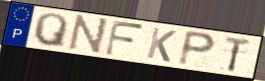F: (103, 19, 146, 58)
K: (144, 26, 178, 64)
N: (65, 14, 111, 57)
P: (176, 29, 219, 68)
Q: (32, 13, 70, 50)
T: (223, 35, 253, 73)
